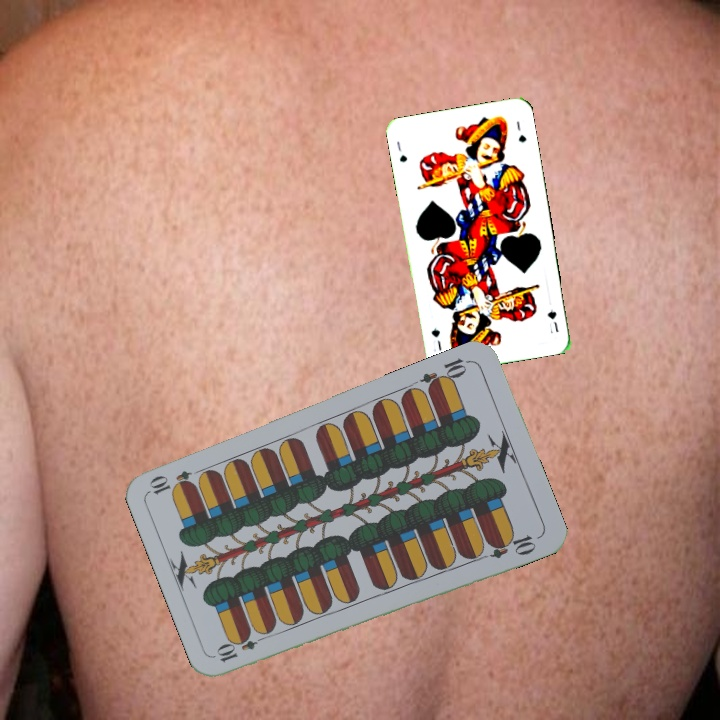E10: (417, 354, 473, 394), (213, 629, 270, 665)
GU: (543, 306, 561, 336), (393, 137, 410, 164)
